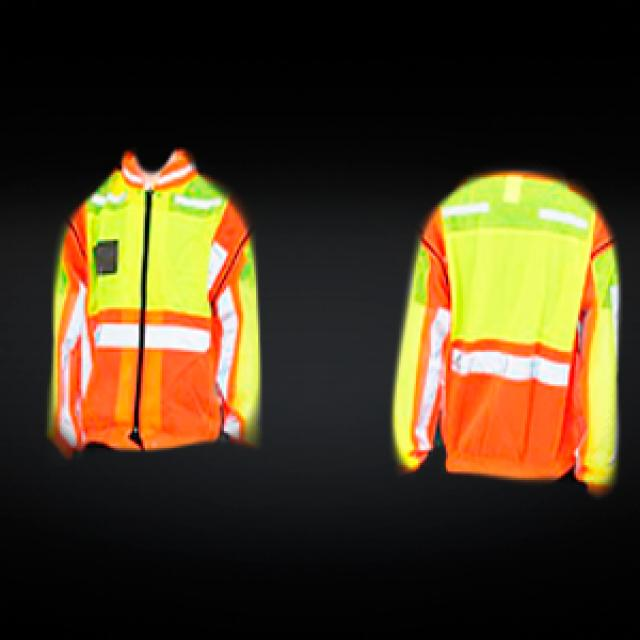Reflective-Jacket: (373, 166, 640, 491), (32, 149, 275, 461)
